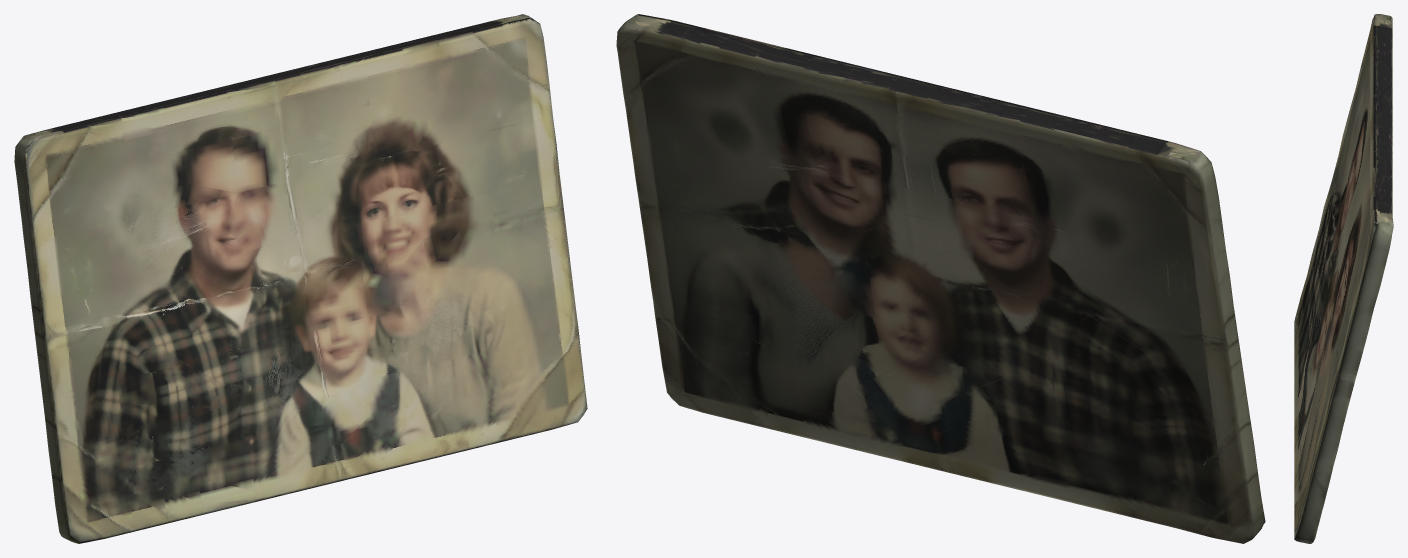
File: Meshy_AI_Fractured_Family_Port_0313125726_texture.fbx
3 renders of one model, left to right at view 1: azimuth 30°, elevation 25°; view 2: azimuth 150°, elevation 25°; view 3: azimuth 270°, elevation 25°, orthographic. The views are drawn at different scales.
Parts seen in each view (by area): view 1: Mesh_0; view 2: Mesh_0; view 3: Mesh_0.
Part boxes in pixels (left/top/right/bottom): Mesh_0: left=14, top=14, right=587, bottom=543; Mesh_0: left=616, top=14, right=1265, bottom=543; Mesh_0: left=1294, top=14, right=1393, bottom=543.
Size of the model in its own units: 191 by 132 by 36.79.
Materials: 1 (1 with a texture image).
